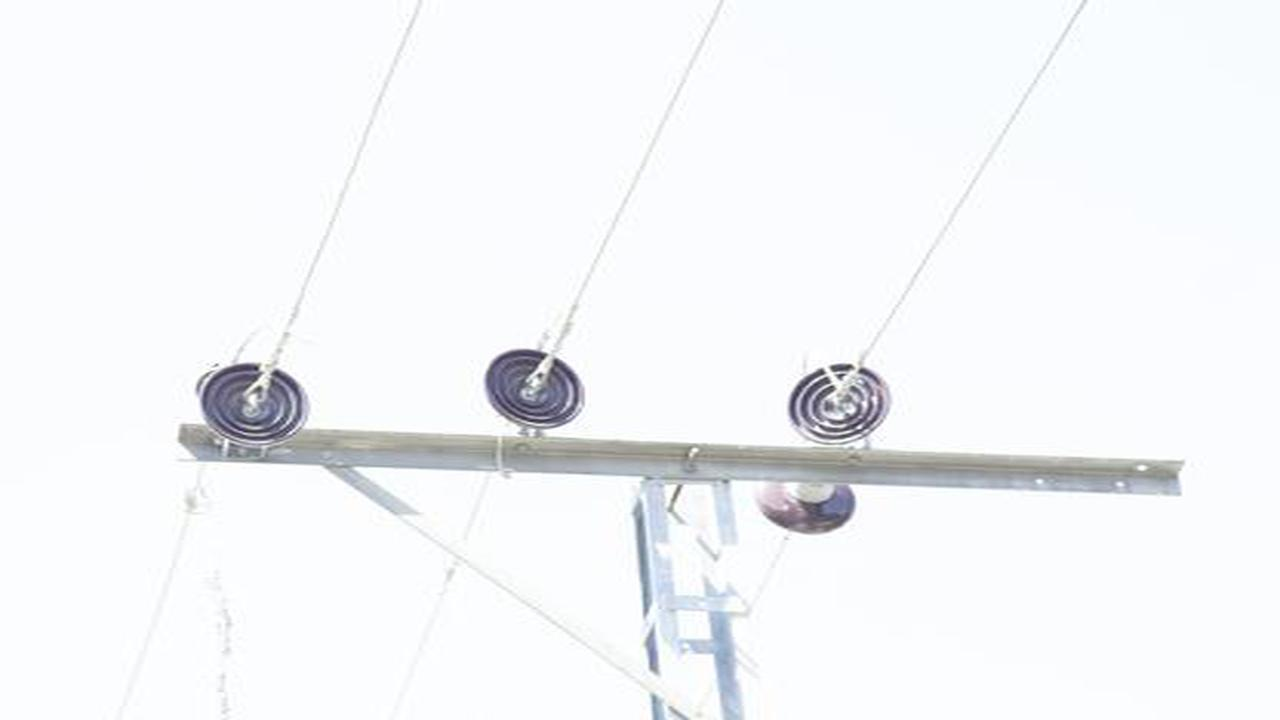insulator_disc: (782, 356, 895, 445), (200, 362, 315, 443), (485, 345, 588, 428), (756, 477, 864, 537)
